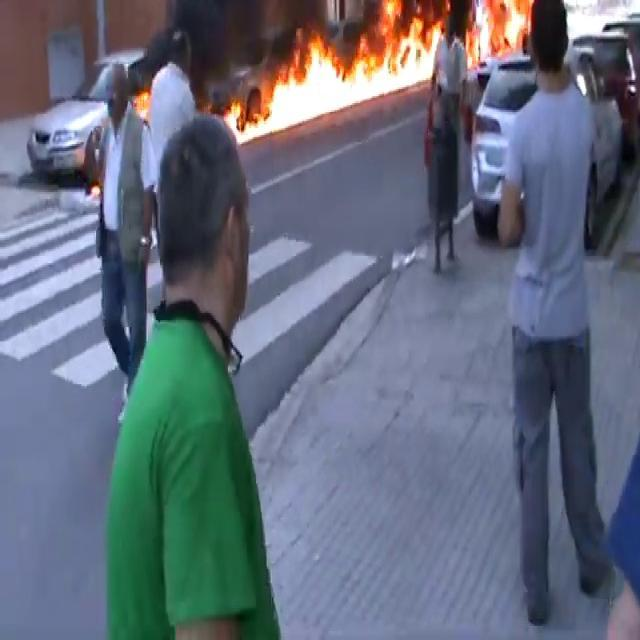Fire: (238, 2, 444, 128), (466, 0, 534, 66)
